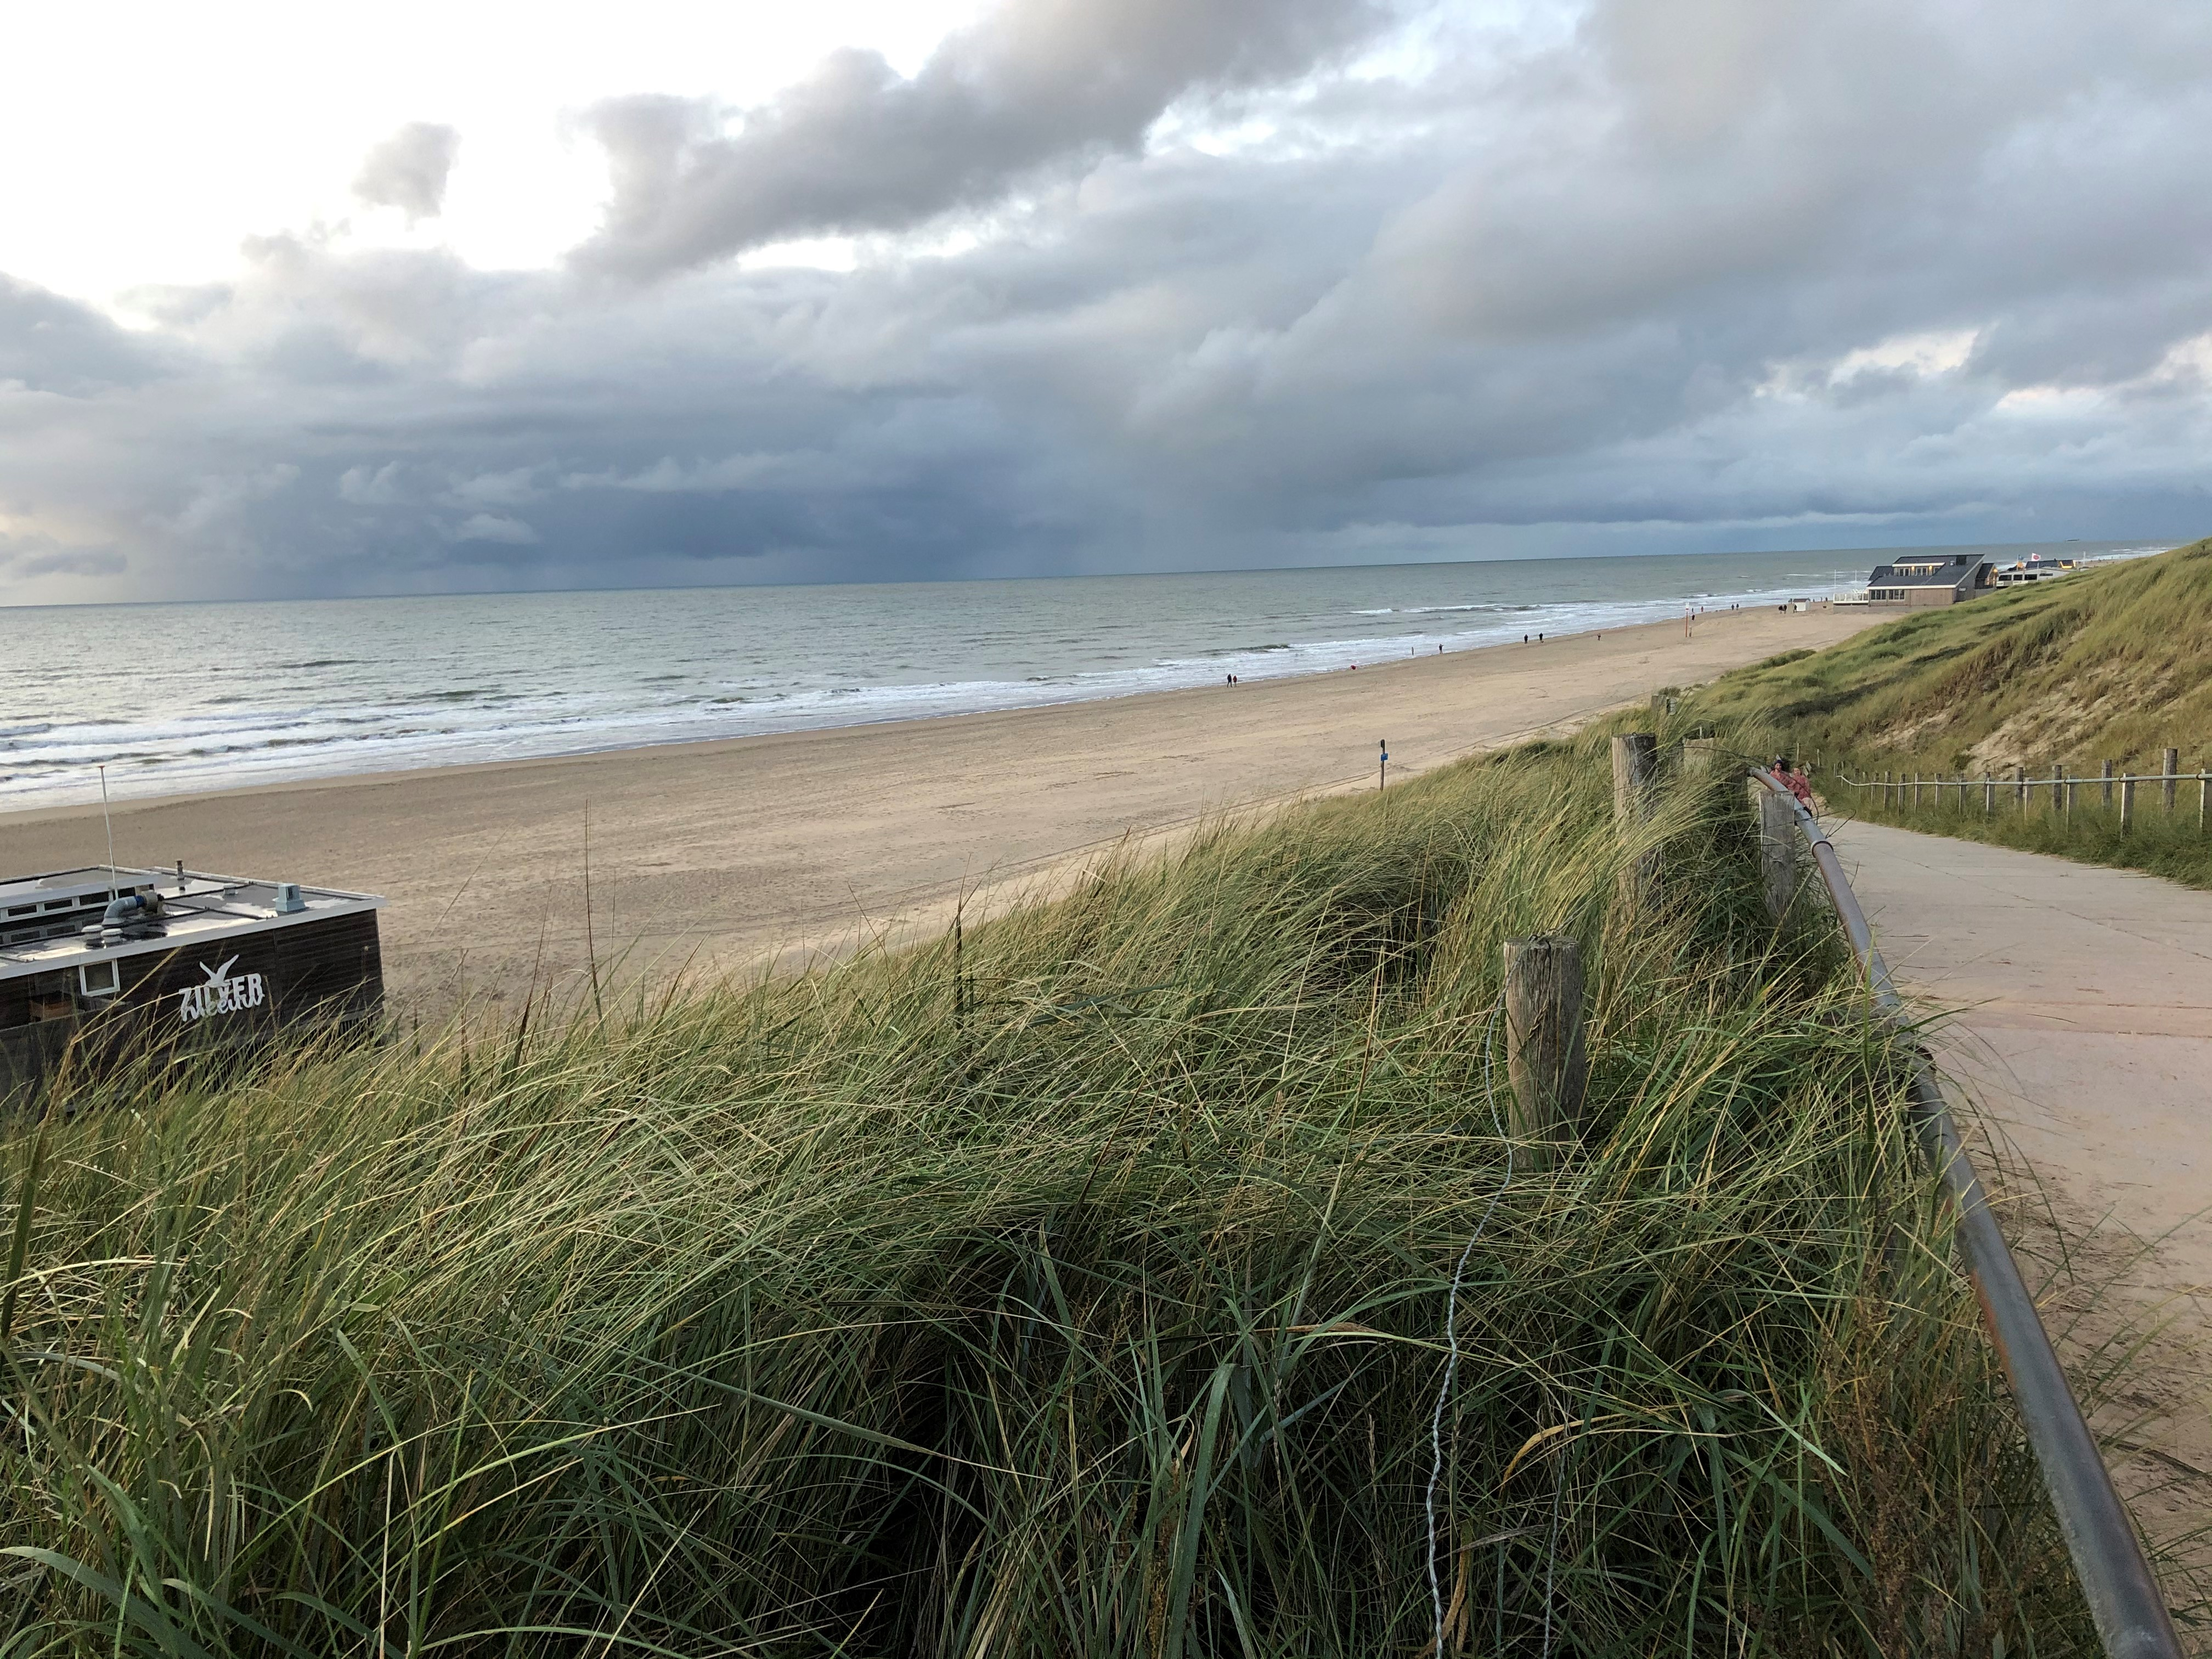pad: (1757, 758, 2212, 1521)
